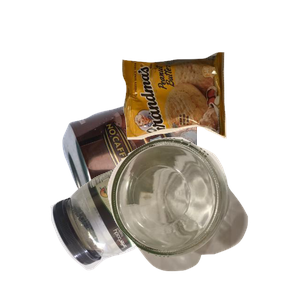glass: (105, 135, 300, 300)
metal: (60, 79, 300, 259)
plastic: (48, 152, 228, 300)
trash: (120, 50, 300, 182)
